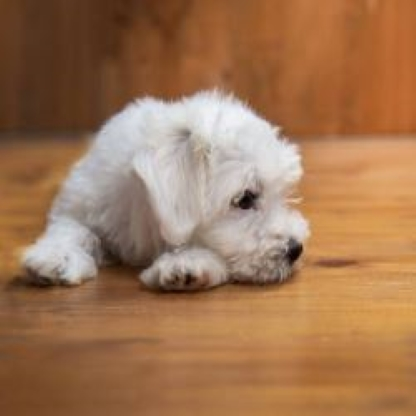maltese: (17, 95, 309, 294)
